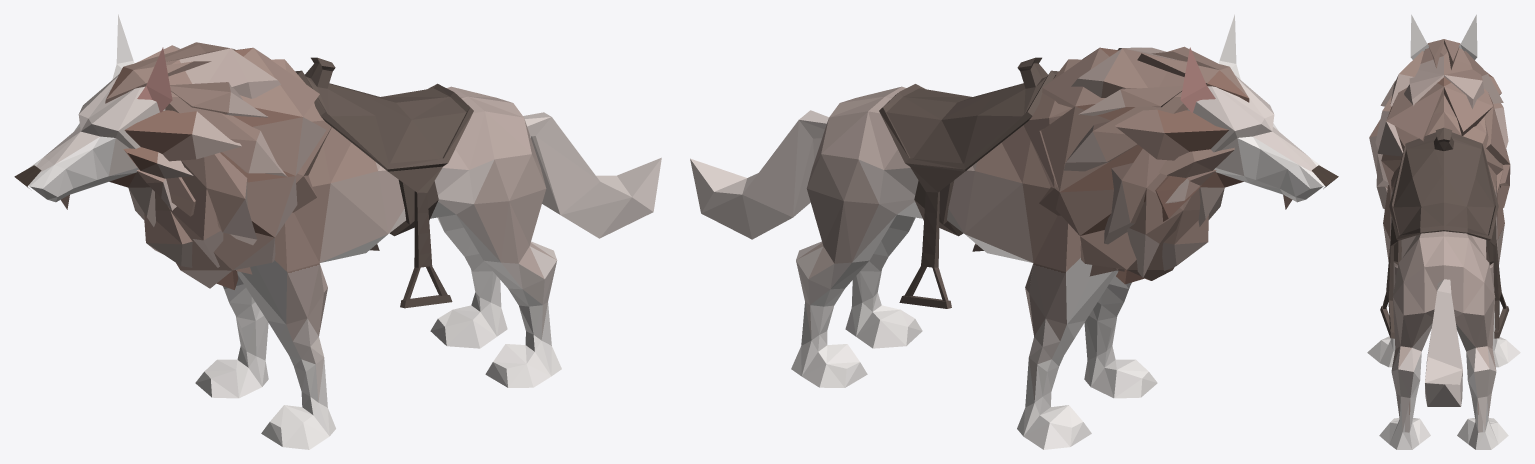
3 renders of one model, left to right at view 1: azimuth 30°, elevation 25°; view 2: azimuth 150°, elevation 25°; view 3: azimuth 270°, elevation 25°, orthographic. The views are drawn at different scales.
Parts seen in each view (by area): view 1: BODY; view 2: BODY; view 3: BODY.
Boxes of the visible parts, left/top/right/bottom form: BODY: left=14, top=14, right=661, bottom=449; BODY: left=690, top=14, right=1338, bottom=449; BODY: left=1367, top=14, right=1520, bottom=449.
Size of the model in its own units: 1121 by 684 by 320.
Materials: 1 (1 with a texture image).
